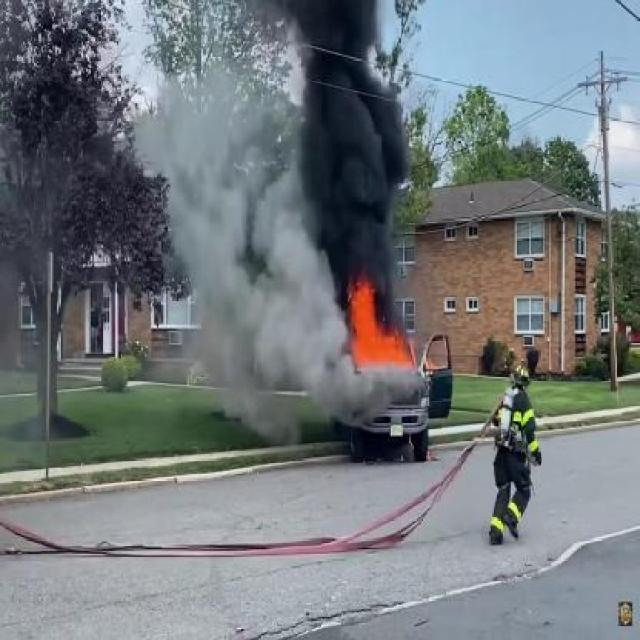Fire: (351, 288, 426, 390)
Smoke: (123, 57, 404, 433)
